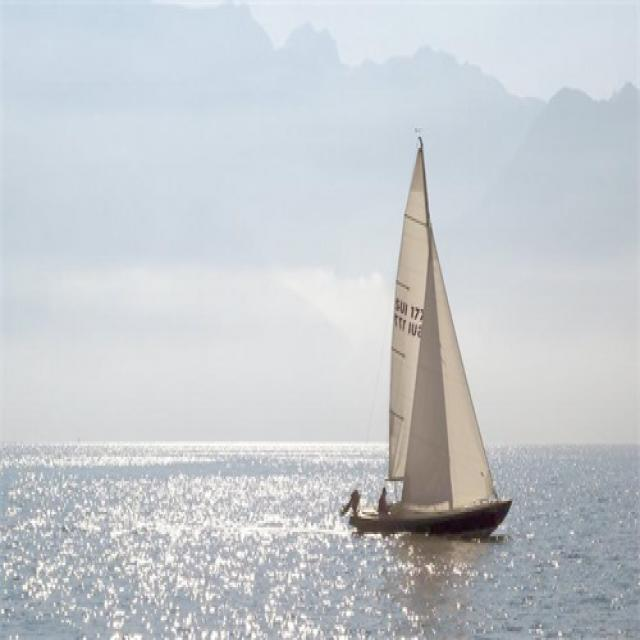Ship: (361, 121, 516, 541)
